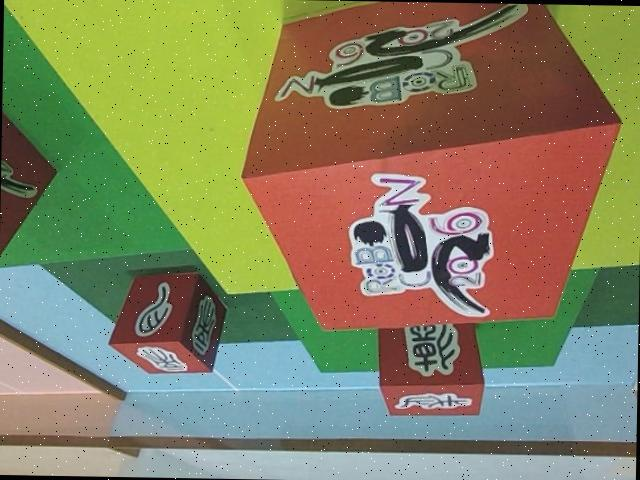R1: (238, 0, 626, 339), (0, 80, 59, 275)
R2 Fake: (108, 267, 229, 377), (374, 306, 488, 419)
